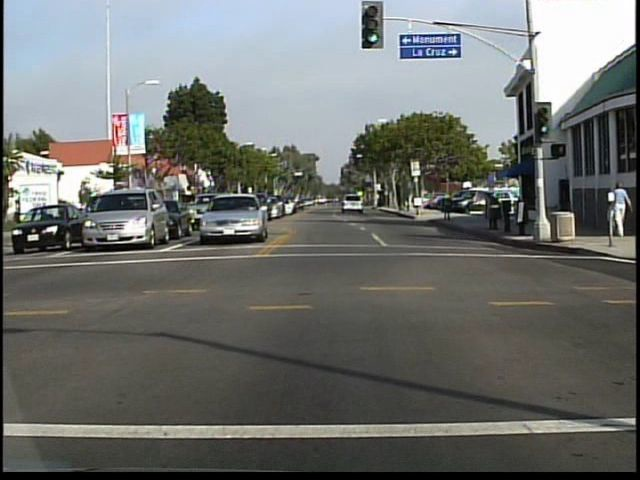person: (605, 176, 633, 242)
